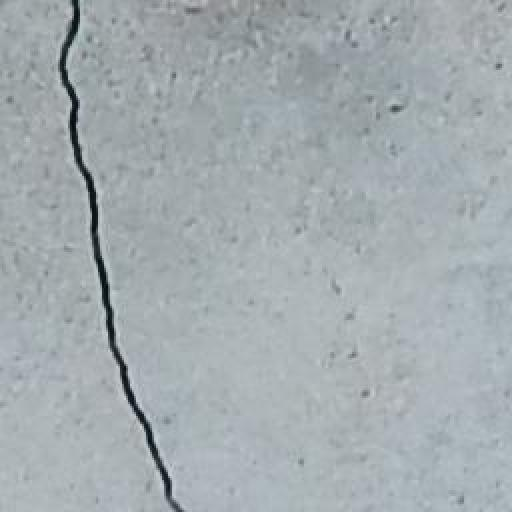spalling: (46, 3, 210, 511)
